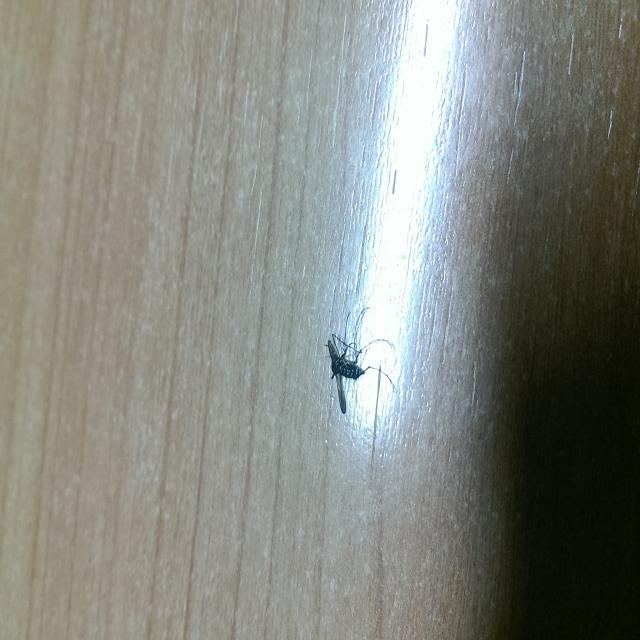albopictus: (320, 291, 400, 456)
